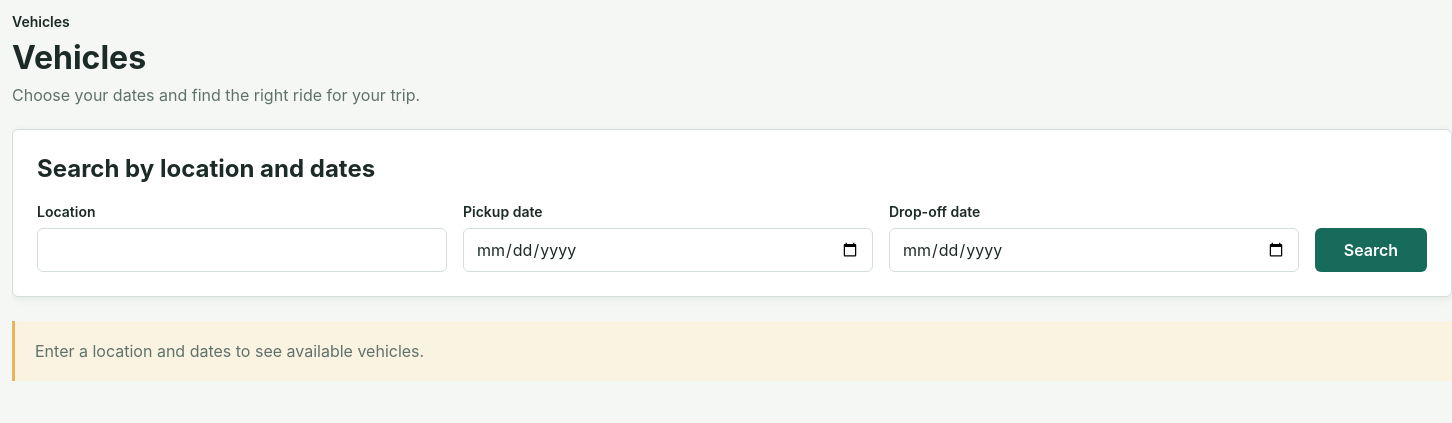
Test case: VehiclesPage › shows required-field errors for an empty search
Step 1. Click the button "Search" → x=1371, y=250, box [1315,228,1427,272]
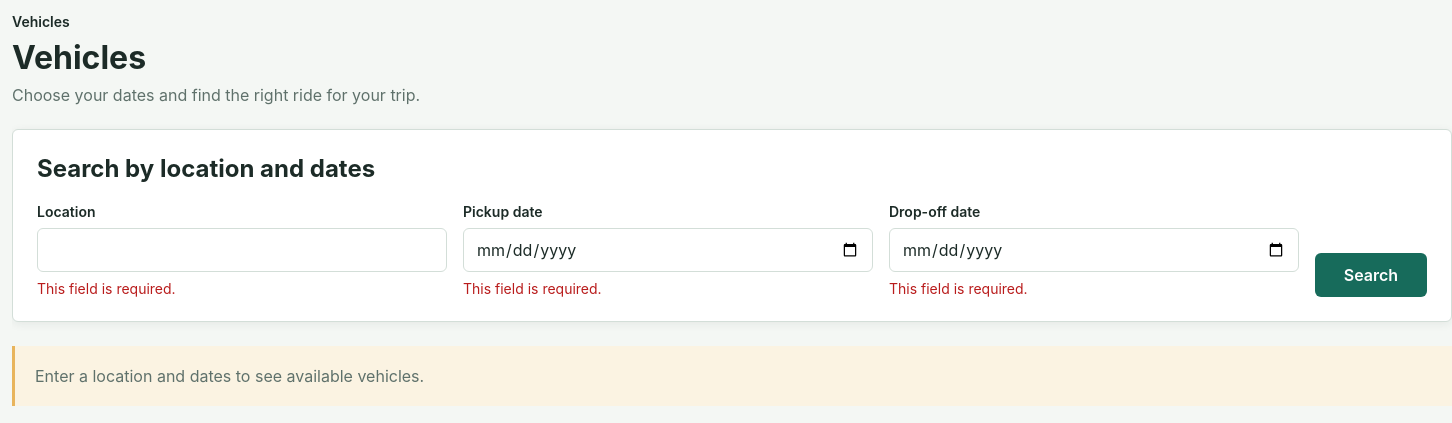
Now the text "This field is required." is shown 3 times, box [37,280,176,297]; [463,280,602,297]; [889,280,1028,297]
